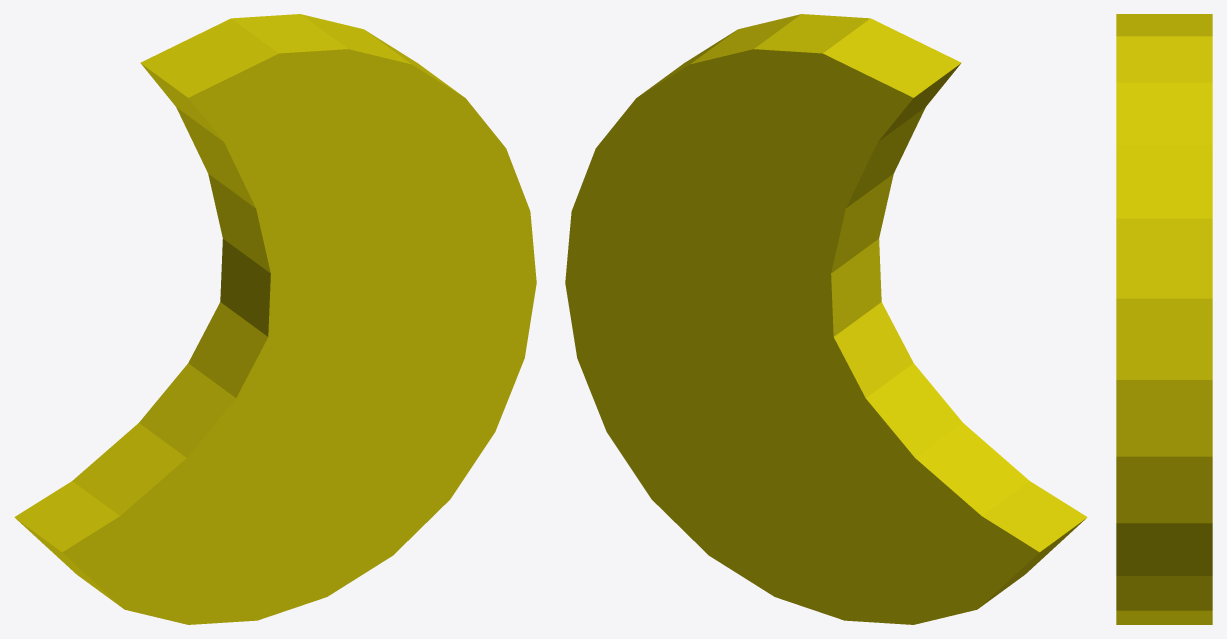
The model's file is moon.fbx.
3 views of the same model, side by side, from view 1: azimuth 30°, elevation 25°; view 2: azimuth 150°, elevation 25°; view 3: azimuth 270°, elevation 25° (orthographic).
Visible parts, largest first — view 1: pDisc1; view 2: pDisc1; view 3: pDisc1.
Boxes of the visible parts, left/top/right/bottom form: pDisc1: left=14, top=14, right=536, bottom=624; pDisc1: left=565, top=14, right=1087, bottom=624; pDisc1: left=1116, top=14, right=1212, bottom=624.
Size of the model in its own units: 0.1951 by 0.2207 by 0.0342.
